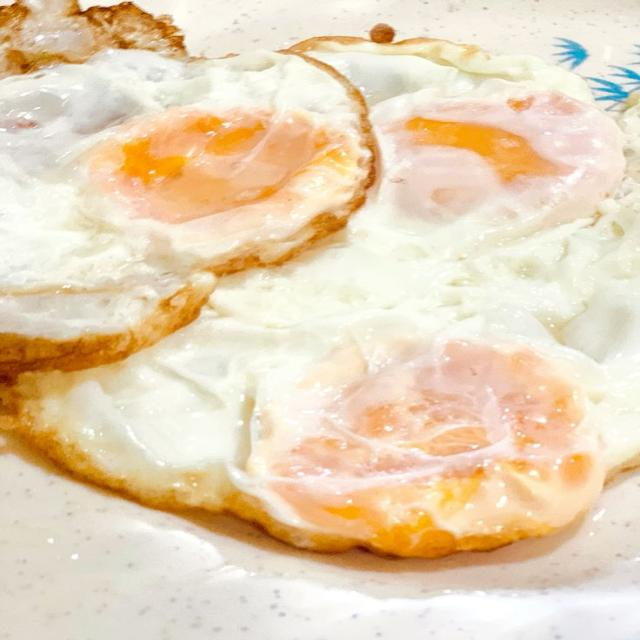fryed egg: (12, 41, 639, 556), (17, 312, 606, 556), (0, 51, 373, 373), (293, 38, 623, 246)
